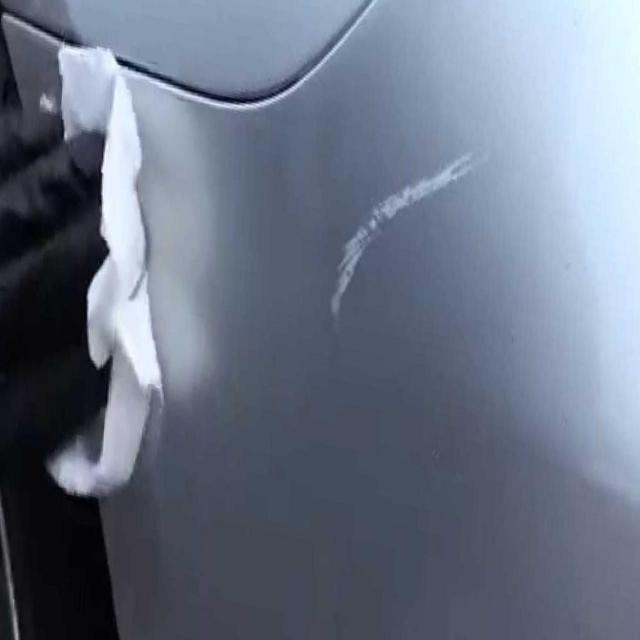scratch: (321, 132, 483, 323)
